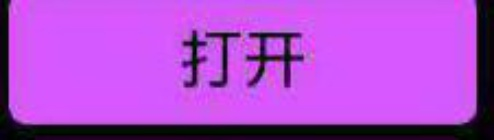Button: (1, 1, 493, 139)
